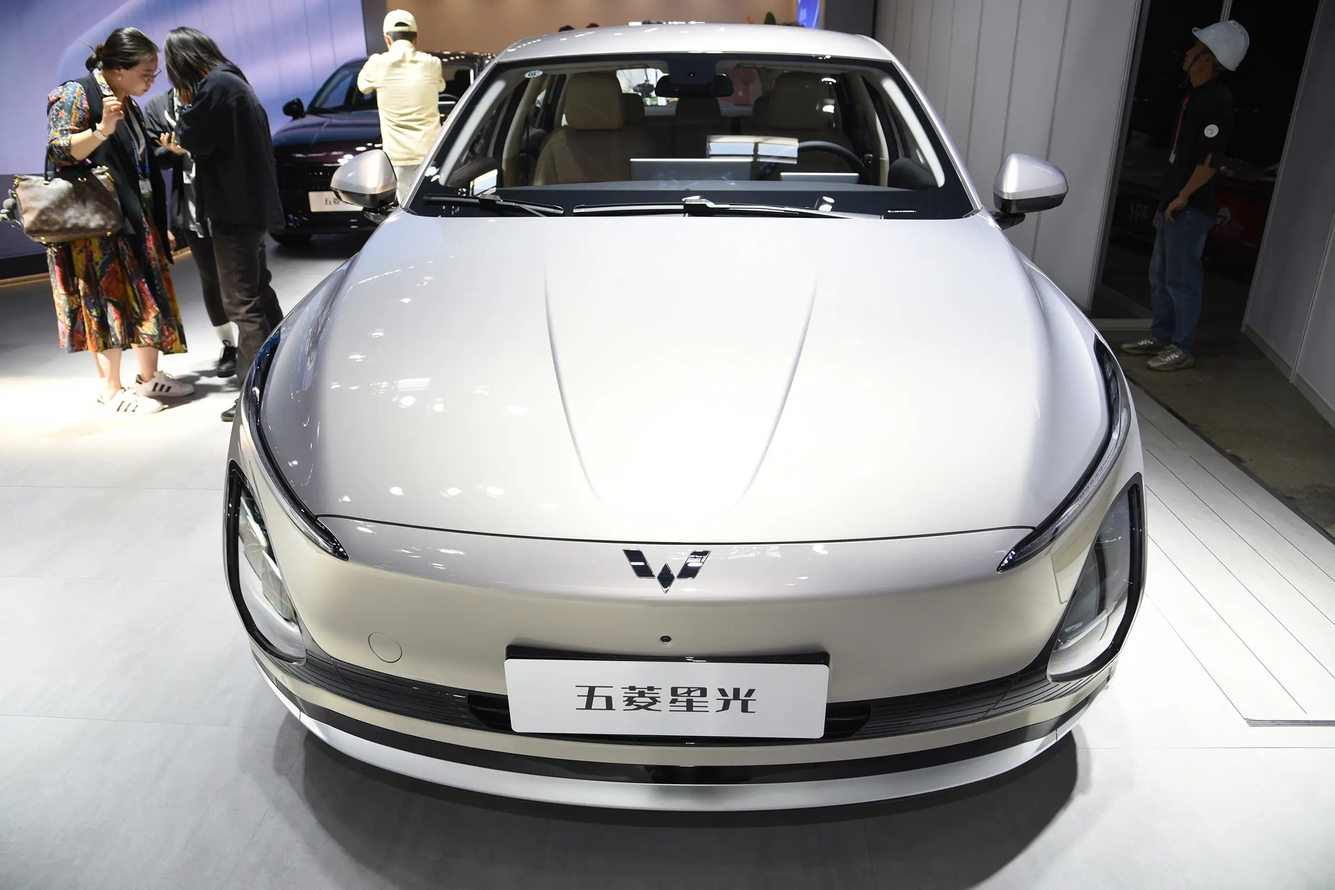SGMW: (622, 549, 711, 594)
